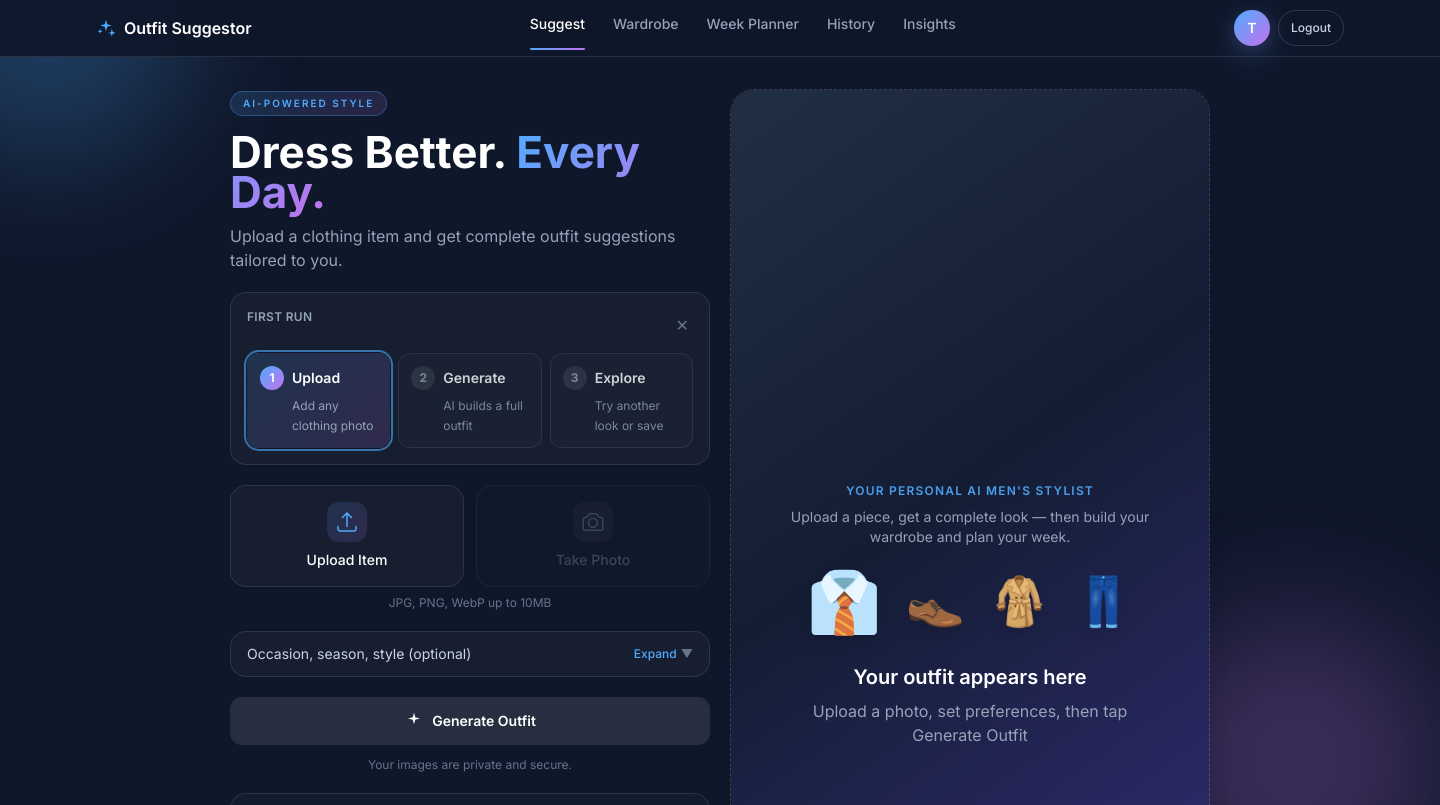
Test: Insights flow integration › shows lifestyle mix chips and hides Boho as an Insights primary
Click the link "Insights": (930, 24) [903,15,956,32]
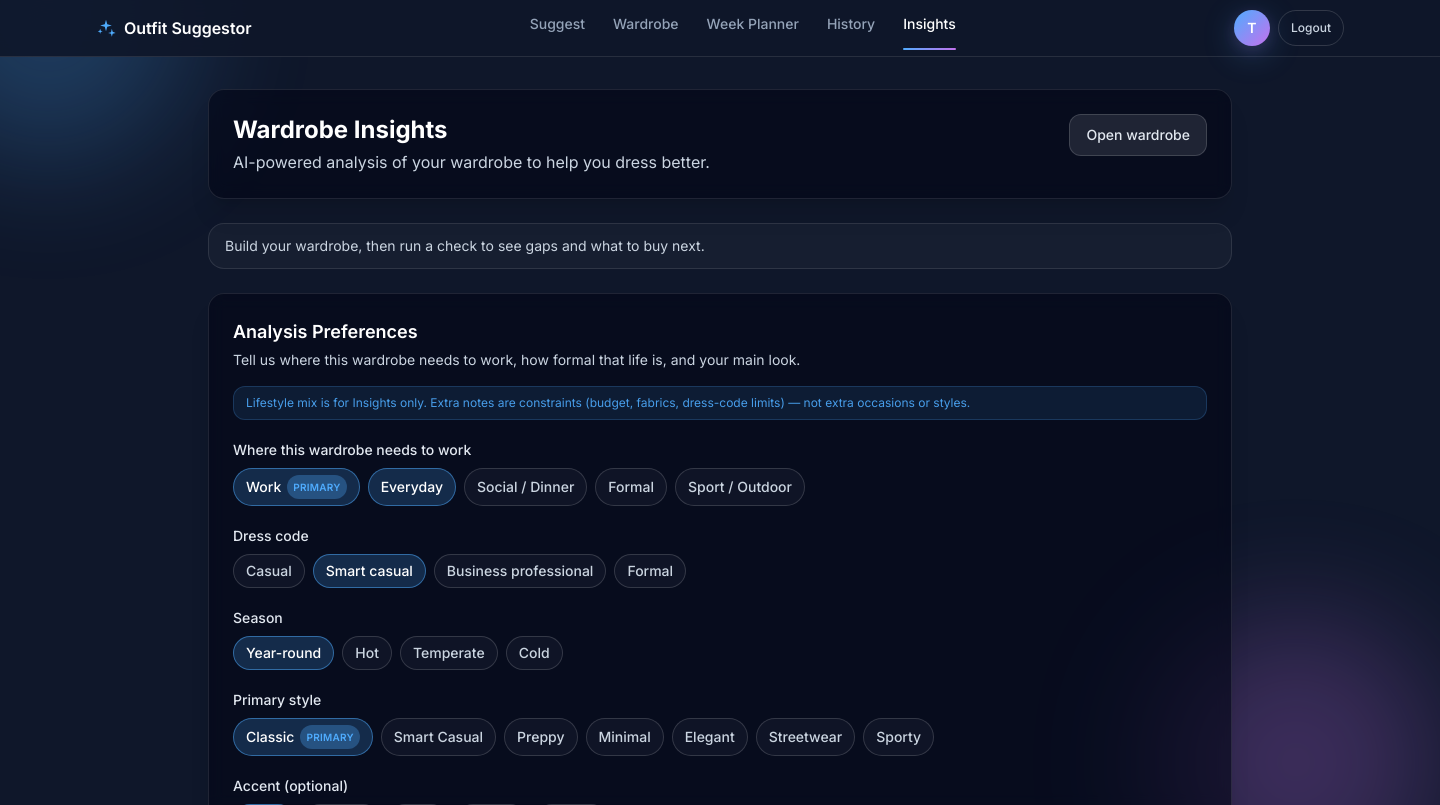
Expected: the heading "Wardrobe Insights" is shown, [233,115,448,144]
Expected: the button "Work Primary" is shown, [233,468,360,506]
Expected: the button "Everyday" is shown, [368,468,456,506]
